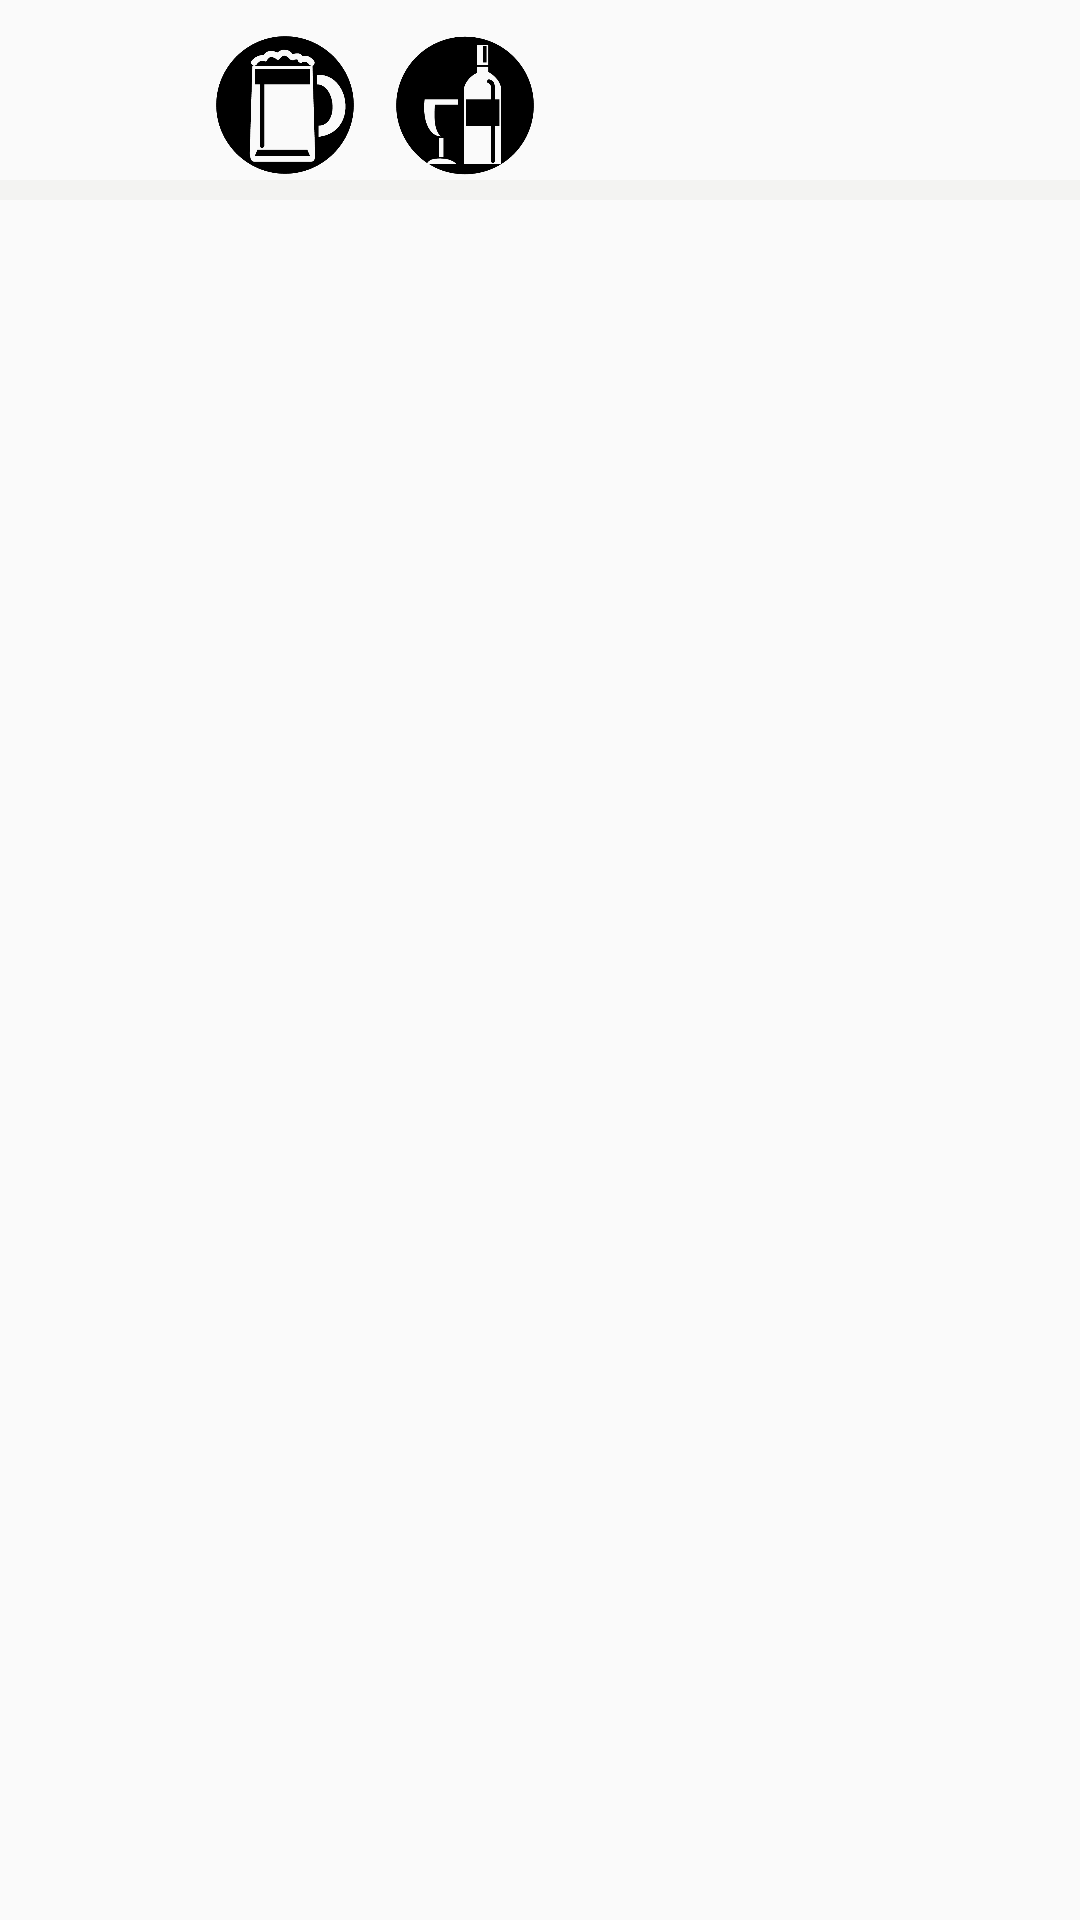

Screen size 1080px x 1920px. Icon name, then its box in pixels as (x1, y1, x2, y2):
beer: (216, 36, 354, 174)
wine: (396, 36, 534, 175)
